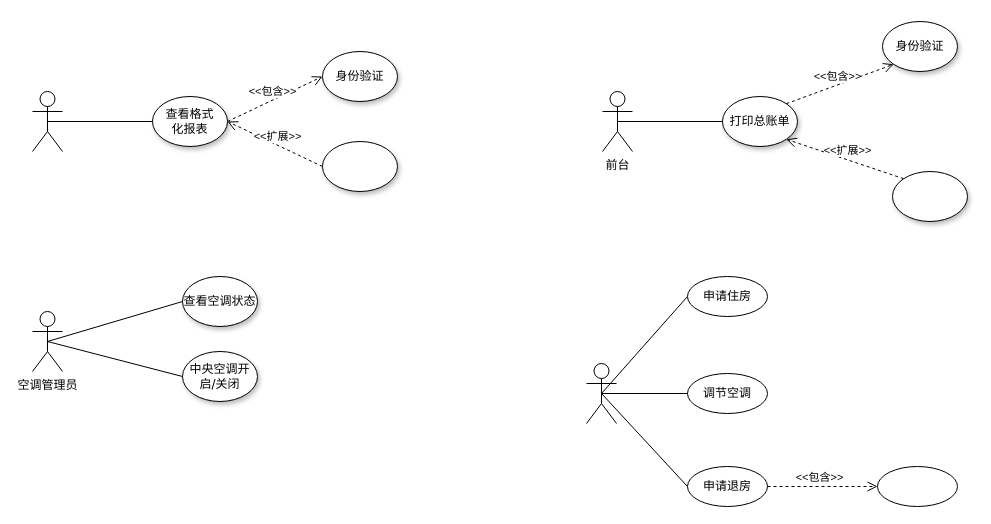
Image size: 991x524. Some labels were removed from this diagram. The shapes that lost their labels are listed below. From the top down, each one's centre as x and y in pixels, then its label:
(47,121): 酒店经理
(361,167): 空调使用 情况调用
(931,197): 查询空调使用情况及费用
(601,393): 客人
(917,486): 查看总账单
